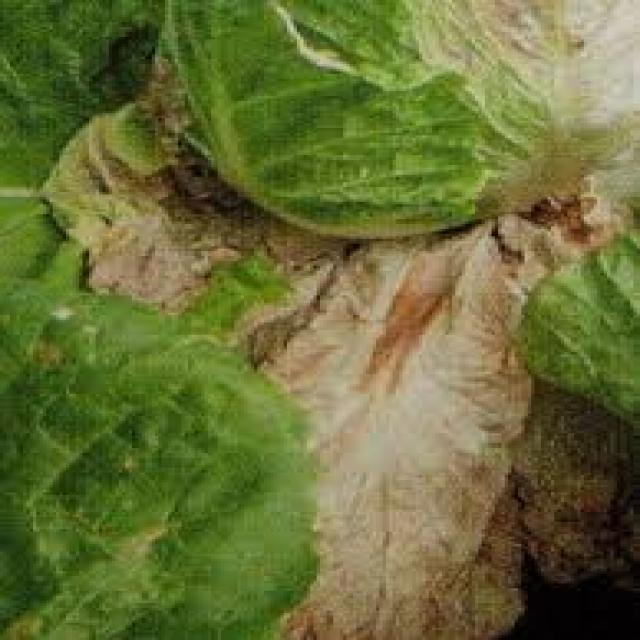organic waste: (148, 0, 636, 241), (0, 273, 317, 638), (0, 0, 165, 271), (521, 222, 637, 424)
